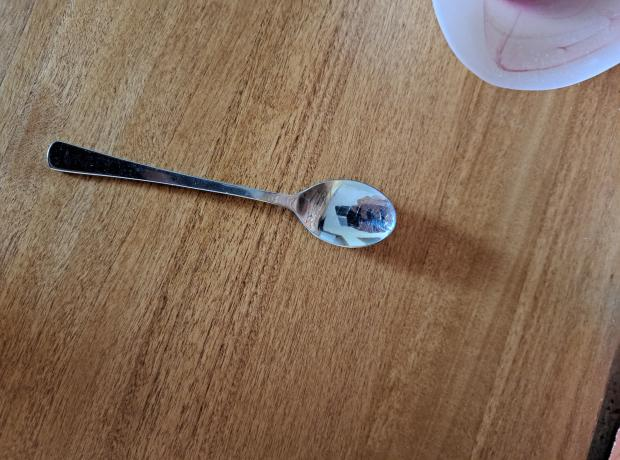metal: (50, 136, 399, 245)
